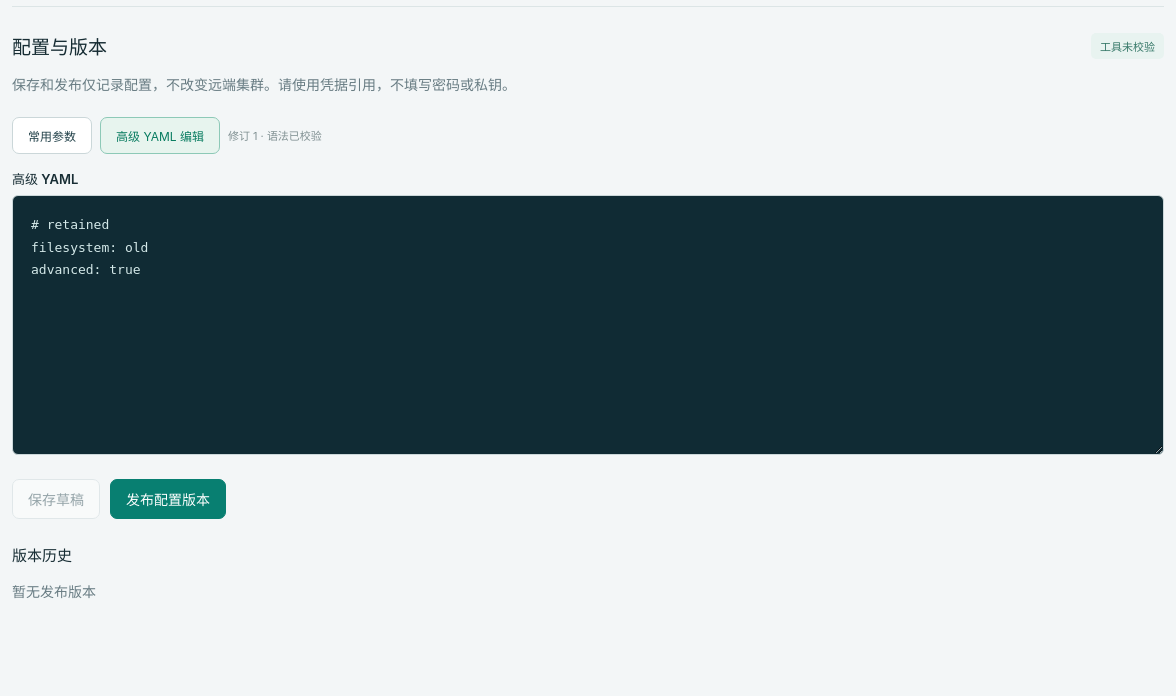
it: shows remote draft without overwriting local conflict text
This screenshot has width=1176, height=696.
Replace the text in the text box labelled "高级 YAML" with "filesystem: local" at (588, 325), box [12,195,1164,455]
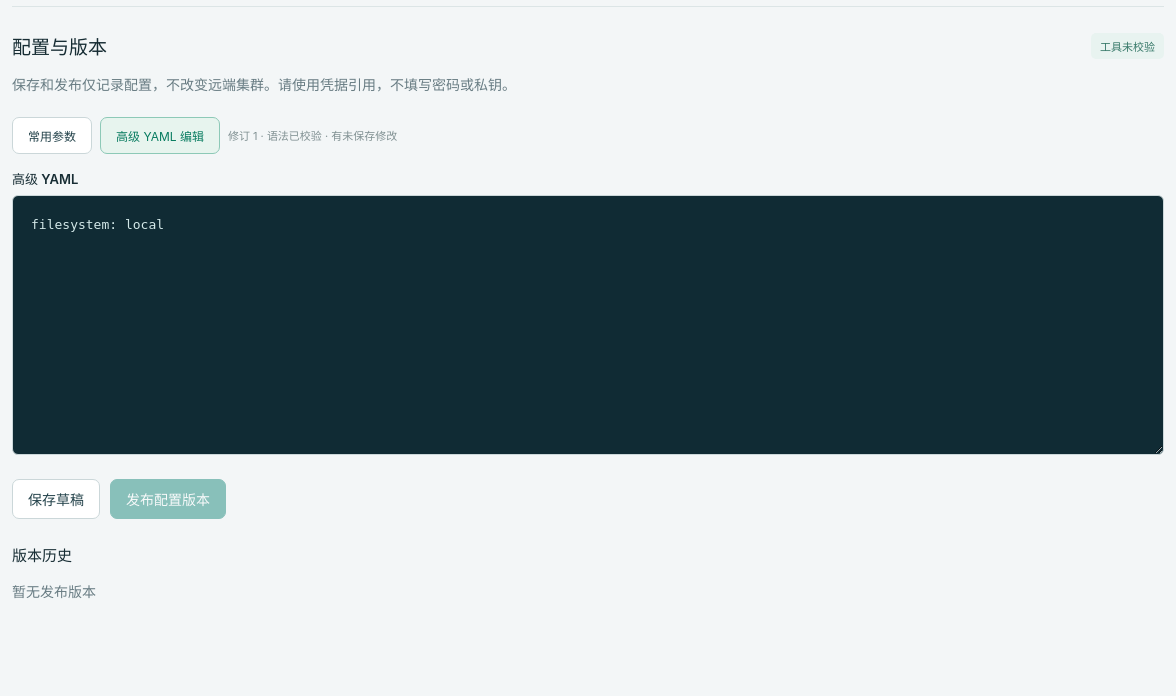
Click the button "保存草稿".
click(56, 499)  # box [12,479,100,519]
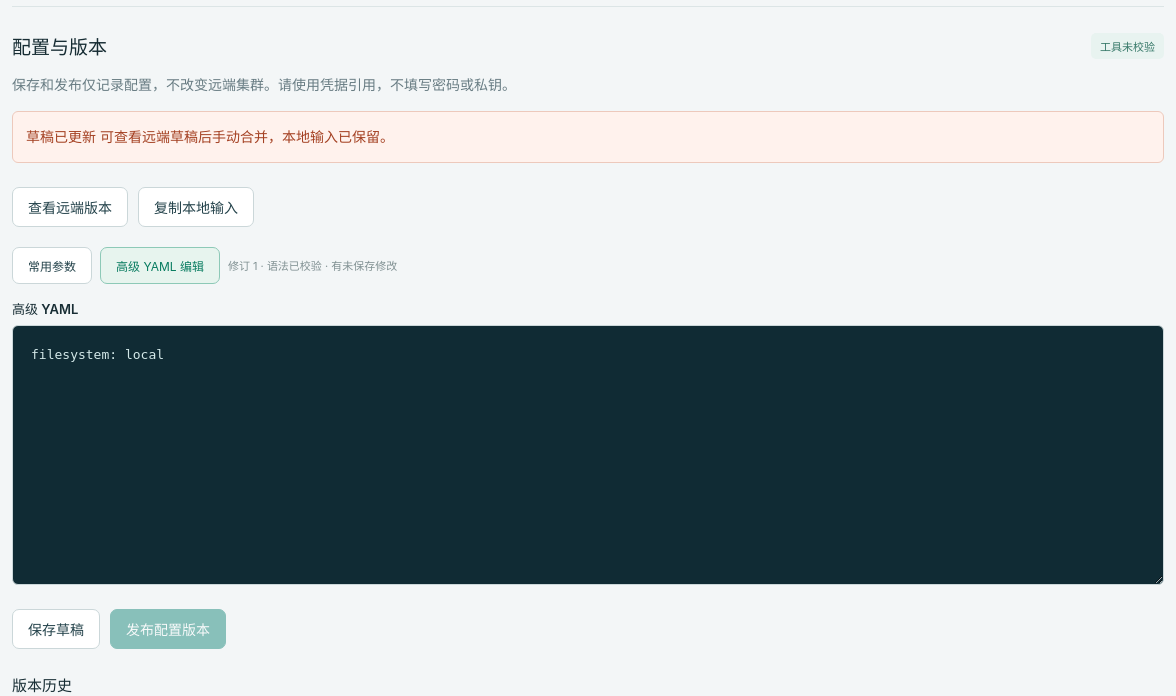
Expected: the message "草稿已更新 可查看远端草稿后手动合并，本地输入已保留。" is shown, [12,111,1164,163]
Click the button "查看远端版本".
click(70, 207)  # box [12,187,128,227]
(page scrolled)
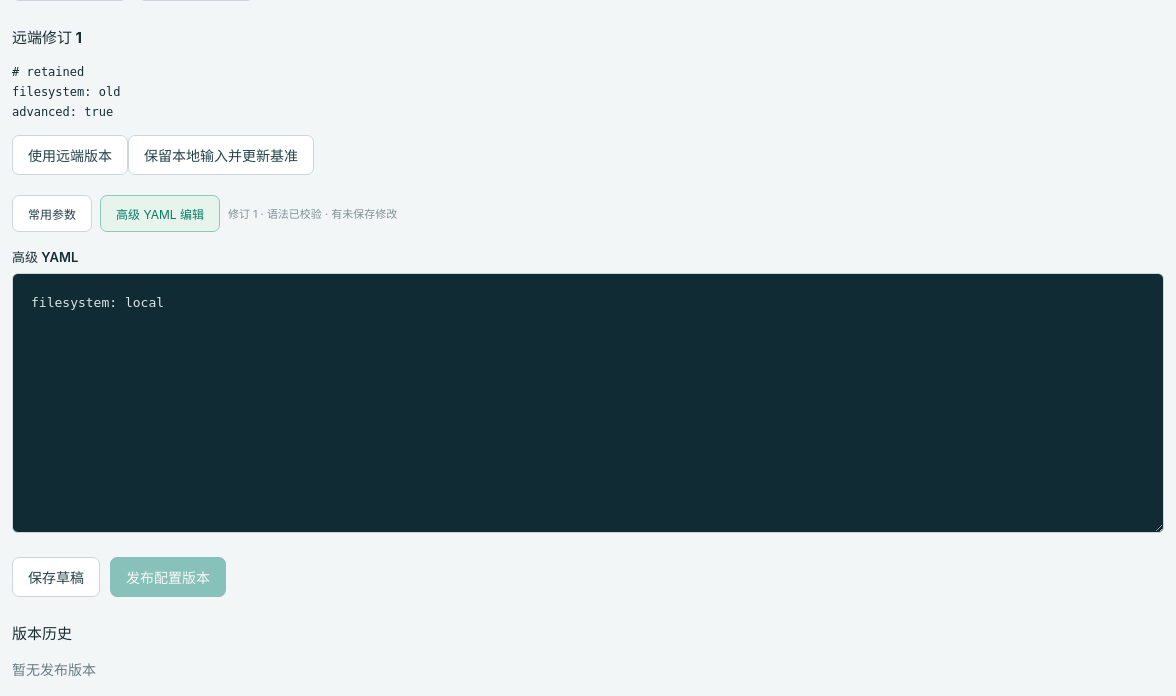
Expected: the text named "远端草稿" is shown, [12,65,120,119]
